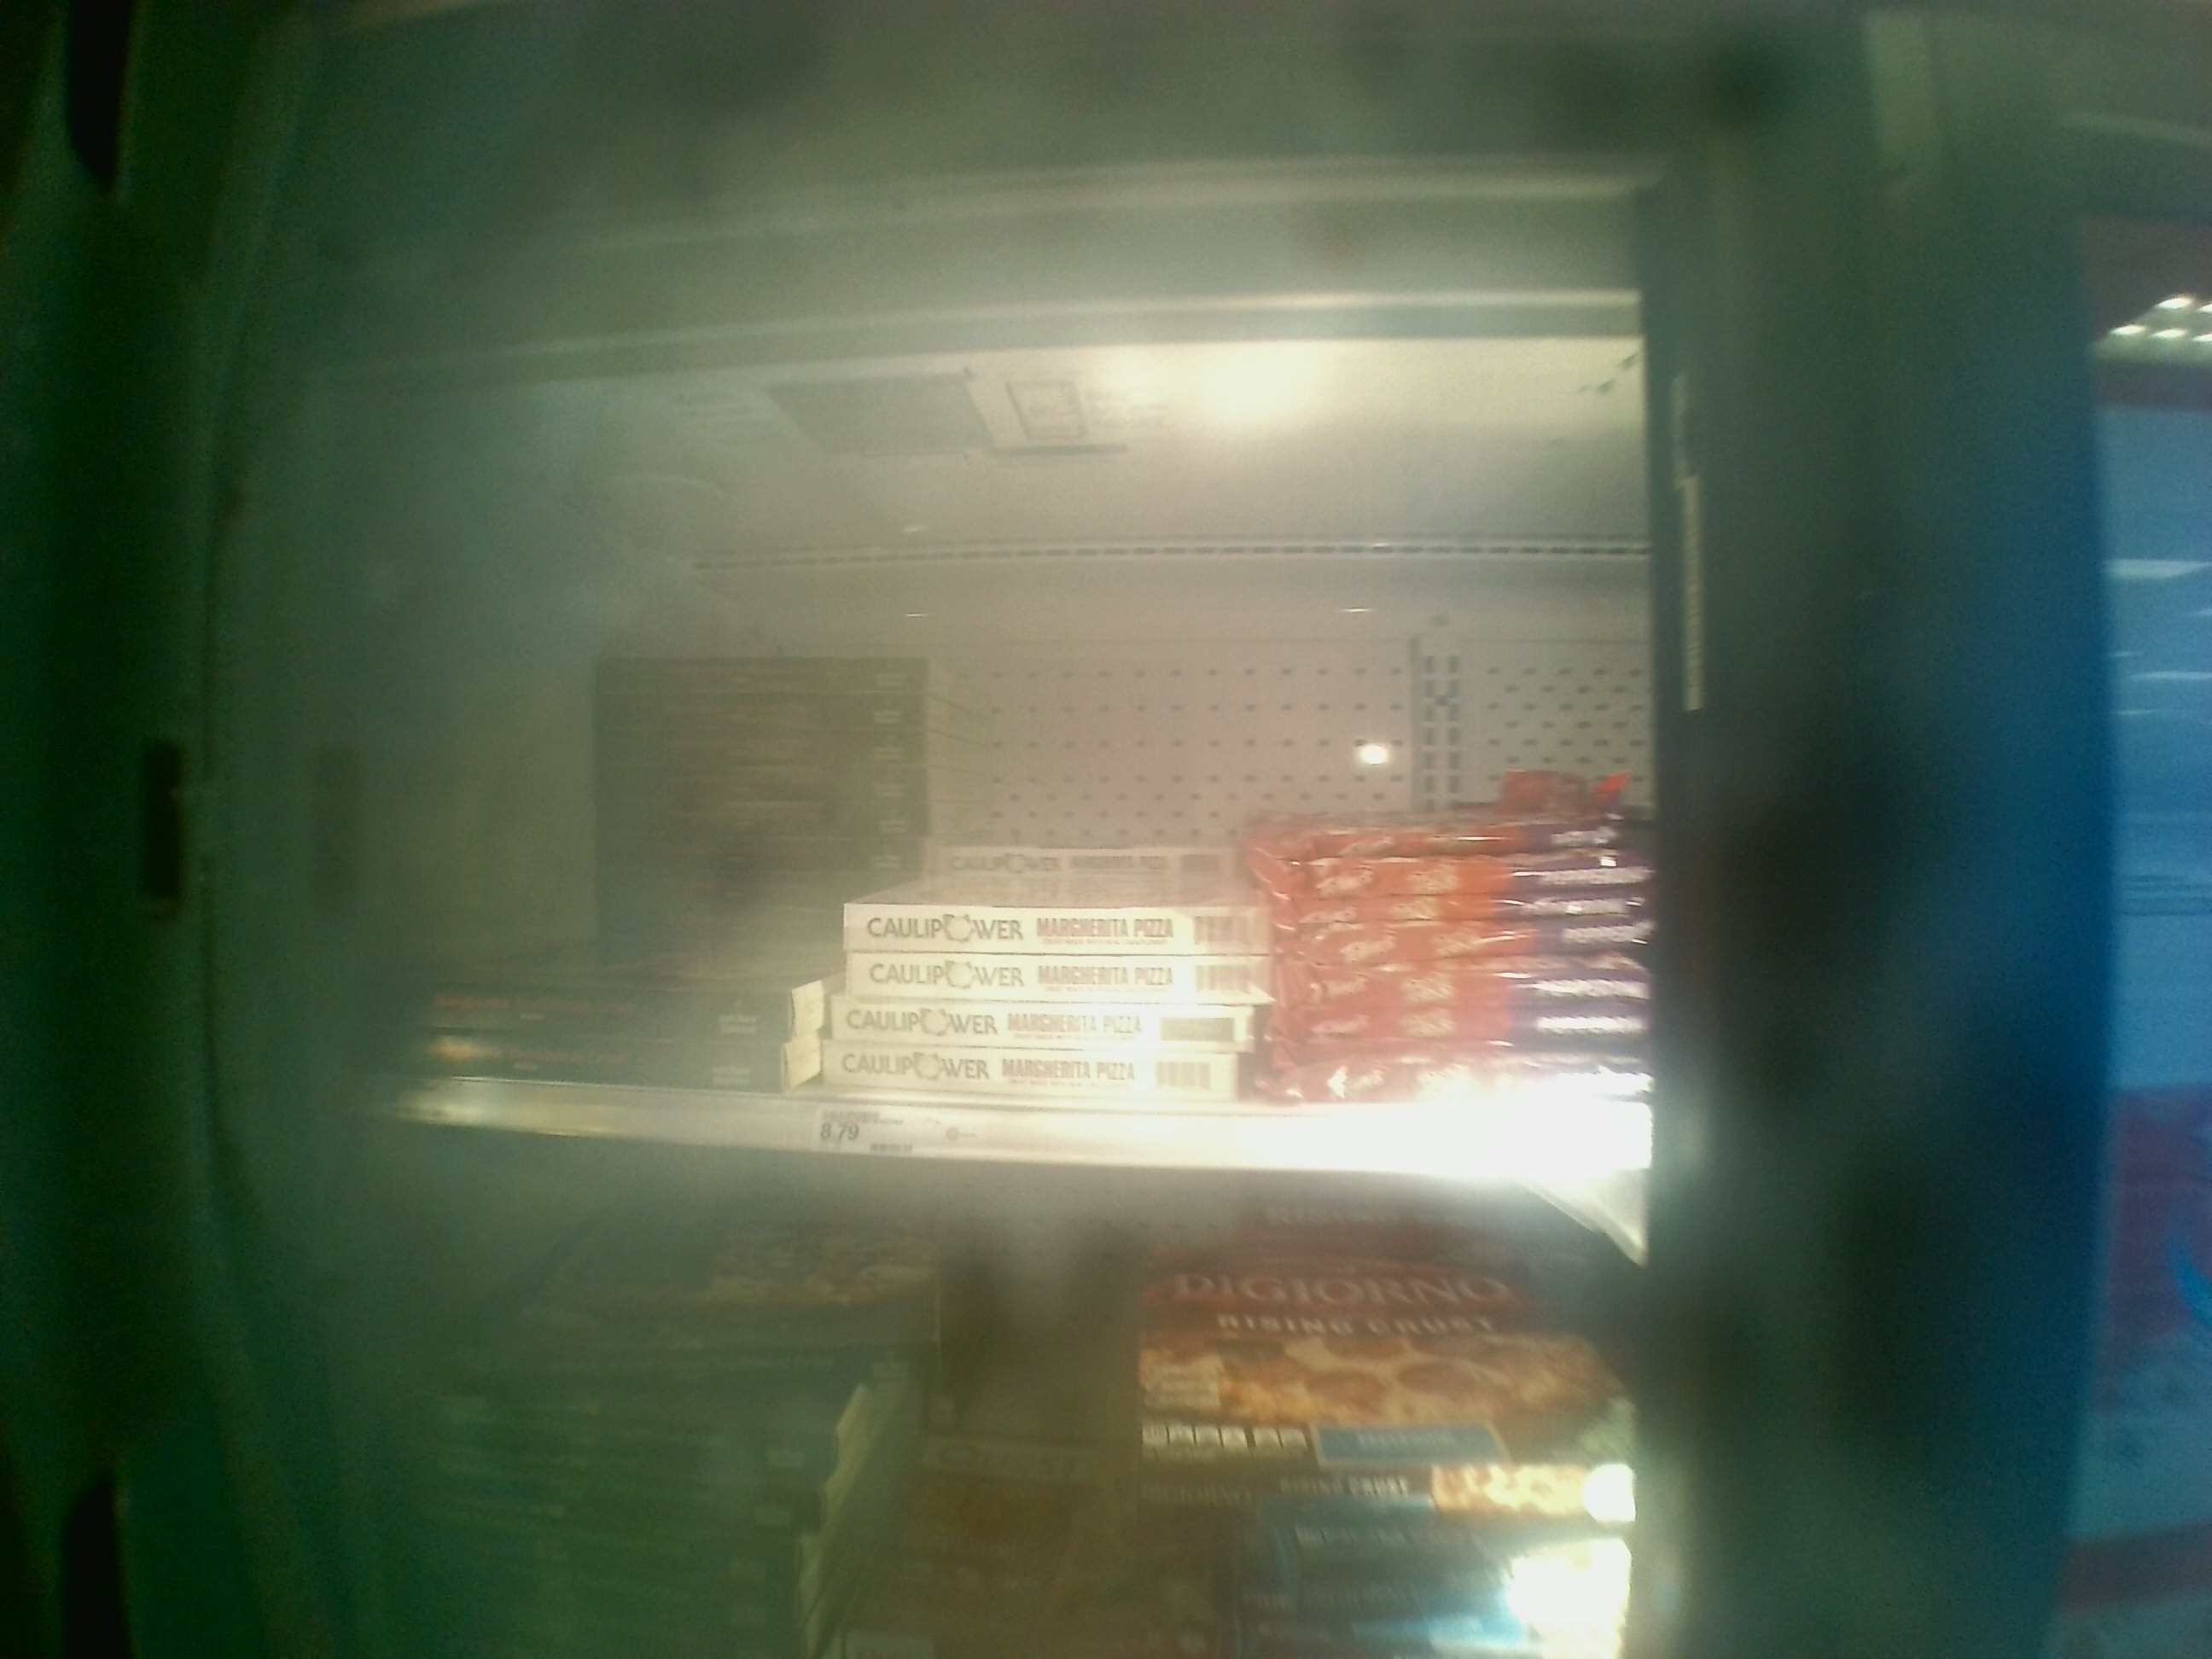pizza: (1150, 1244, 1590, 1457), (850, 1422, 1165, 1654), (526, 1206, 920, 1342), (1129, 1453, 1611, 1532), (421, 1371, 848, 1459), (416, 1466, 838, 1537), (810, 1044, 1230, 1105), (843, 904, 1268, 958), (397, 1039, 792, 1091), (824, 1009, 1235, 1051), (597, 732, 934, 777), (415, 990, 779, 1028), (864, 965, 1244, 999), (411, 1553, 798, 1582), (613, 660, 913, 697), (1245, 1577, 1501, 1615), (592, 800, 928, 828), (920, 847, 1230, 873), (578, 829, 909, 854), (1256, 1622, 1505, 1652), (606, 708, 935, 728)
